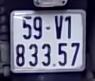1: (65, 15, 74, 41)
3: (27, 42, 39, 67), (41, 42, 51, 68)
5: (56, 42, 68, 67), (21, 14, 32, 40)
7: (71, 42, 81, 68)
8: (15, 43, 26, 68)
9: (32, 14, 44, 40)
V: (52, 14, 64, 41)
